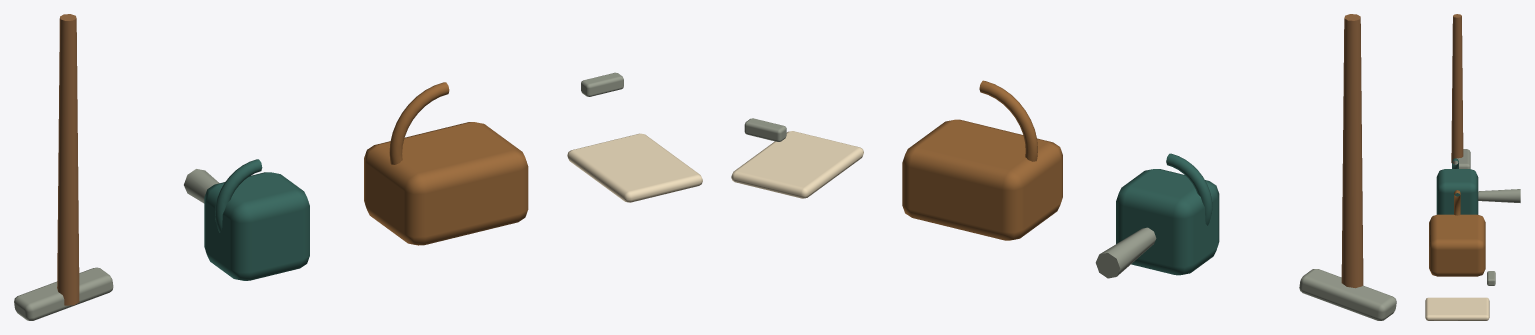
Rendered from farm-tool-kit.m1.glb.
3 views of the same model, side by side, from view 1: azimuth 30°, elevation 25°; view 2: azimuth 150°, elevation 25°; view 3: azimuth 270°, elevation 25° (orthographic). The views are drawn at different scales.
Visible parts, largest first — view 1: harvestBasket, wateringCanBody, tool.hoe, fieldJournalClipboard, hoeBlade, basketHandle, wateringCanHandle, clipboardClip, wateringCanSpout; view 2: harvestBasket, wateringCanBody, tool.hoe, fieldJournalClipboard, hoeBlade, wateringCanSpout, basketHandle, wateringCanHandle, clipboardClip; view 3: harvestBasket, wateringCanBody, tool.hoe, fieldJournalClipboard, wateringCanSpout, hoeBlade, basketHandle, clipboardClip.
Part boxes in pixels (left/top/right/bottom): harvestBasket: left=364, top=122, right=528, bottom=245; wateringCanBody: left=204, top=172, right=309, bottom=280; tool.hoe: left=57, top=14, right=79, bottom=305; fieldJournalClipboard: left=567, top=133, right=702, bottom=202; hoeBlade: left=14, top=267, right=113, bottom=320; basketHandle: left=389, top=82, right=449, bottom=164; wateringCanHandle: left=215, top=159, right=262, bottom=232; clipboardClip: left=581, top=72, right=623, bottom=96; wateringCanSpout: left=184, top=169, right=219, bottom=203; harvestBasket: left=902, top=119, right=1062, bottom=240; wateringCanBody: left=1116, top=169, right=1219, bottom=275; tool.hoe: left=1341, top=14, right=1363, bottom=288; fieldJournalClipboard: left=731, top=131, right=863, bottom=198; hoeBlade: left=1299, top=269, right=1396, bottom=320; wateringCanSpout: left=1095, top=227, right=1156, bottom=278; basketHandle: left=979, top=80, right=1037, bottom=161; wateringCanHandle: left=1166, top=153, right=1212, bottom=225; clipboardClip: left=744, top=118, right=786, bottom=141; harvestBasket: left=1429, top=214, right=1485, bottom=276; wateringCanBody: left=1436, top=169, right=1478, bottom=214; tool.hoe: left=1451, top=14, right=1463, bottom=163; fieldJournalClipboard: left=1425, top=297, right=1489, bottom=320; wateringCanSpout: left=1478, top=189, right=1520, bottom=202; hoeBlade: left=1453, top=149, right=1470, bottom=168; basketHandle: left=1454, top=190, right=1460, bottom=215; clipboardClip: left=1487, top=271, right=1495, bottom=285.
Bounding box in the file's own units: 2.07 × 0.8941 × 0.505.
